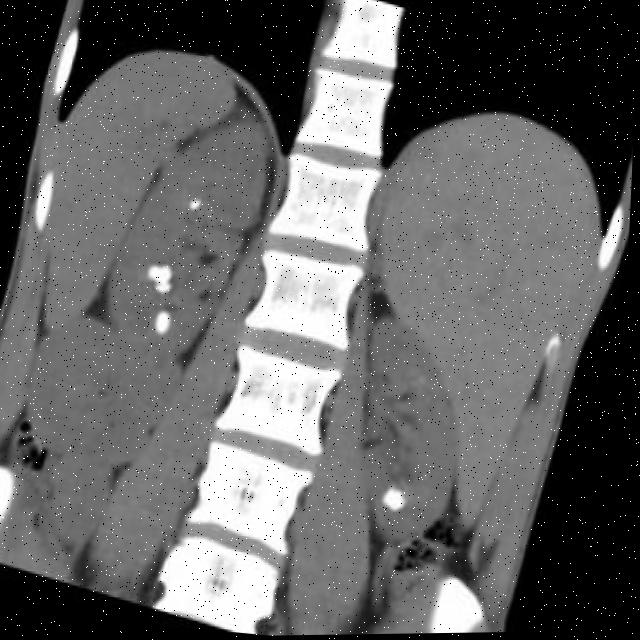Tas_Var: (376, 473, 420, 523), (144, 255, 177, 285), (151, 304, 178, 338), (183, 189, 206, 217), (419, 469, 437, 490), (415, 370, 433, 391), (154, 281, 165, 293), (164, 281, 173, 290)
